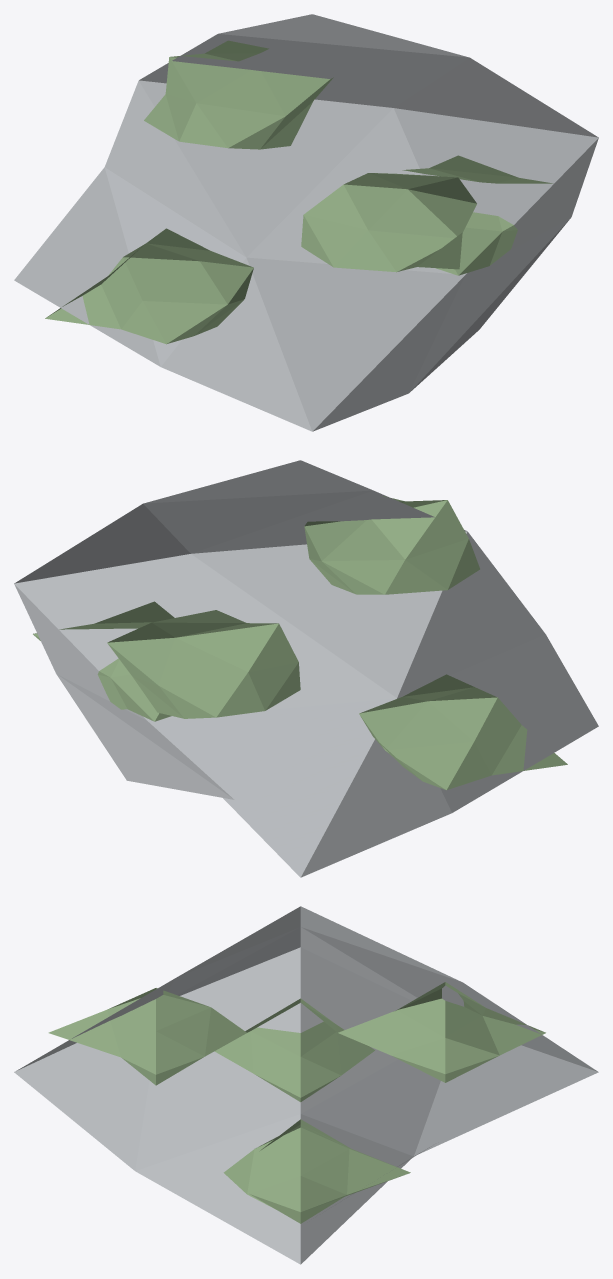
File: moss_rock_v08.glb
3 renders of one model, top to bottom at view 1: azimuth 30°, elevation 25°; view 2: azimuth 150°, elevation 25°; view 3: azimuth 270°, elevation 25°, orthographic. The views are drawn at different scales.
Visible parts, largest first — view 1: lod0; view 2: lod0; view 3: lod0.
Boxes of the visible parts, x1,y1,x2,y2 form: lod0: (14,14,598,431); lod0: (14,460,598,877); lod0: (14,906,598,1264).
Size of what is drawn, in the model's own units: 1.3 by 0.8886 by 1.31.
